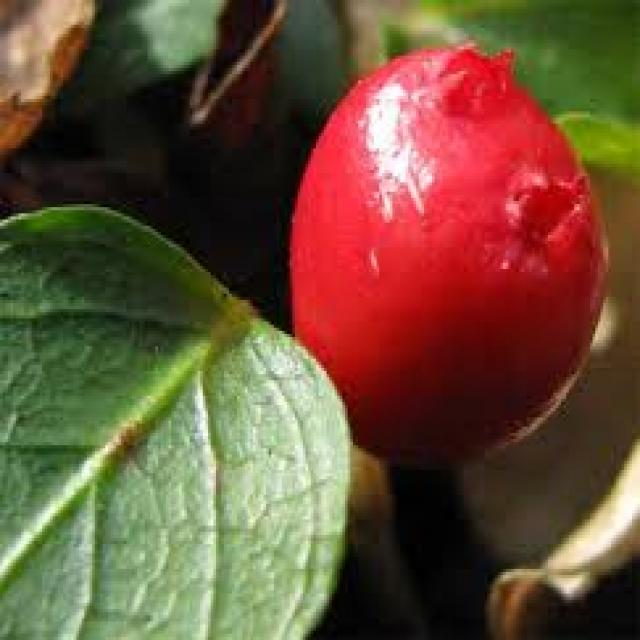organic waste: (0, 201, 350, 637), (284, 43, 608, 467)
